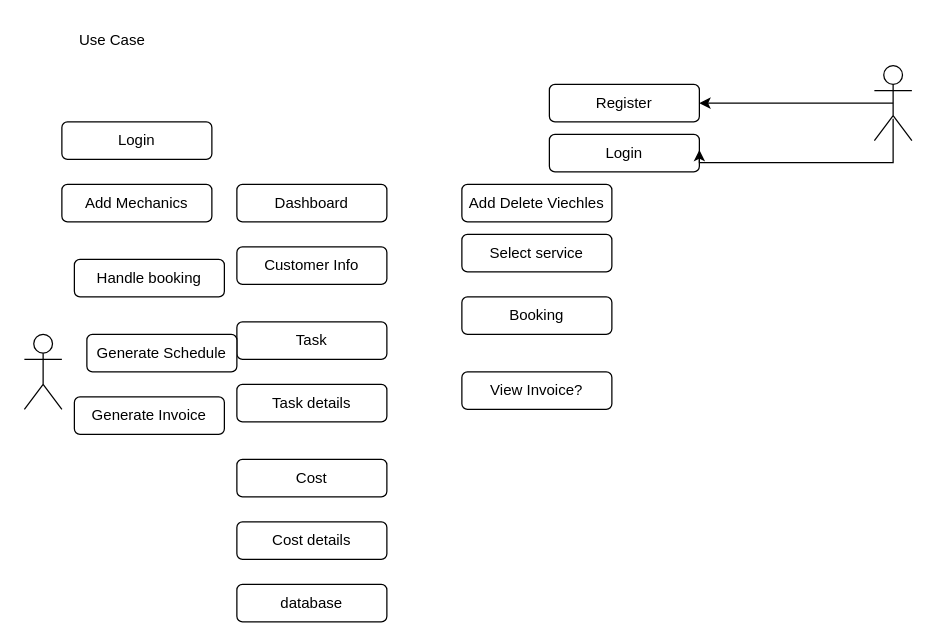
Image size: 946x644. Some labels were removed from this diagram. Each missing label, with the centre of its shape:
"Admin" belongs at pixel 42 371.
"Customer" belongs at pixel 892 102.
